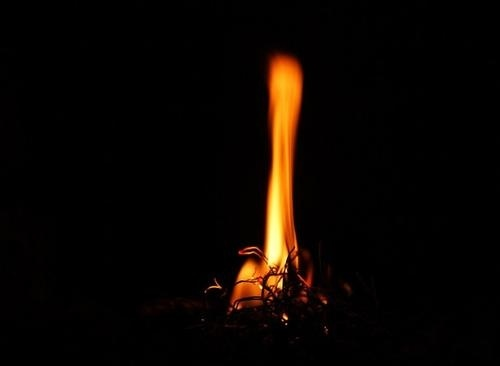fire: (245, 47, 307, 303)
